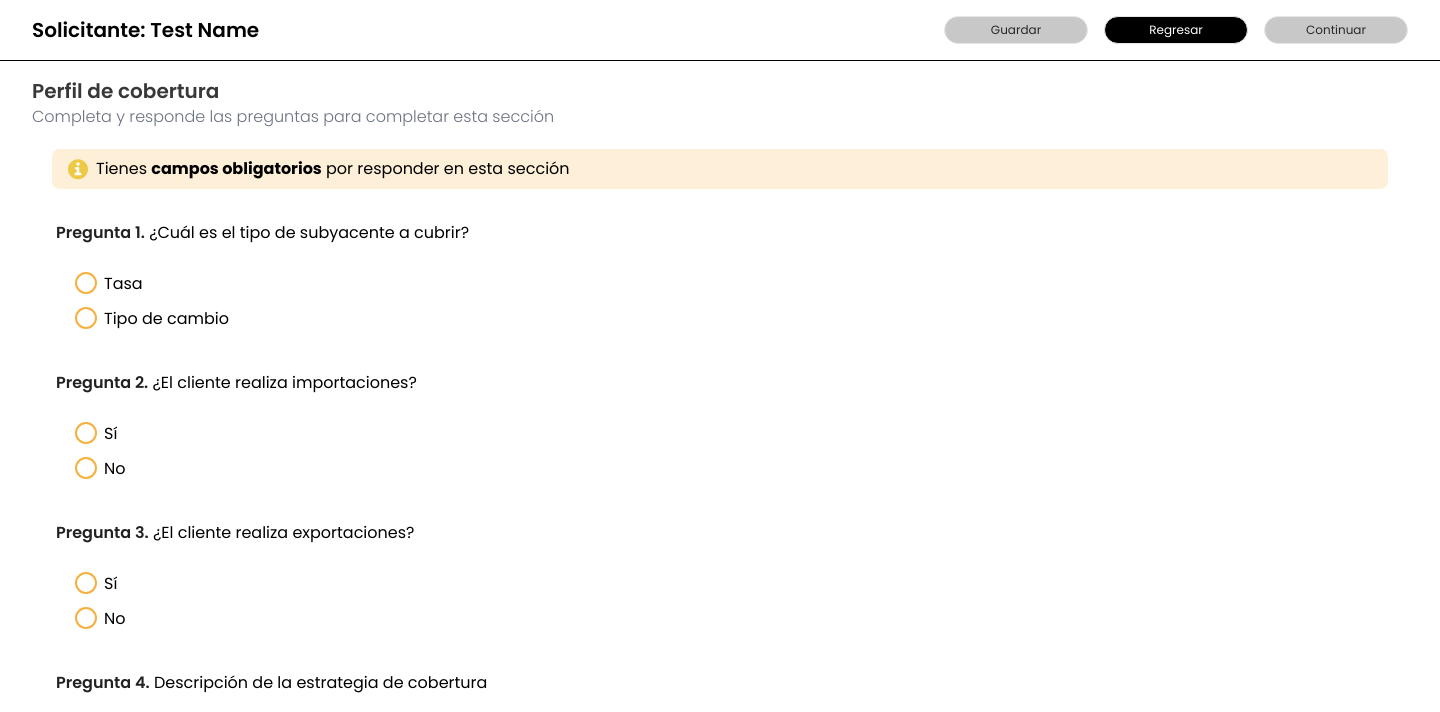
Test: PCD page › it should you must activate the "Save" button when making any change
The image size is (1440, 712).
Click the radio button labelled "Tasa" at (86, 283), box [76,273,96,293]
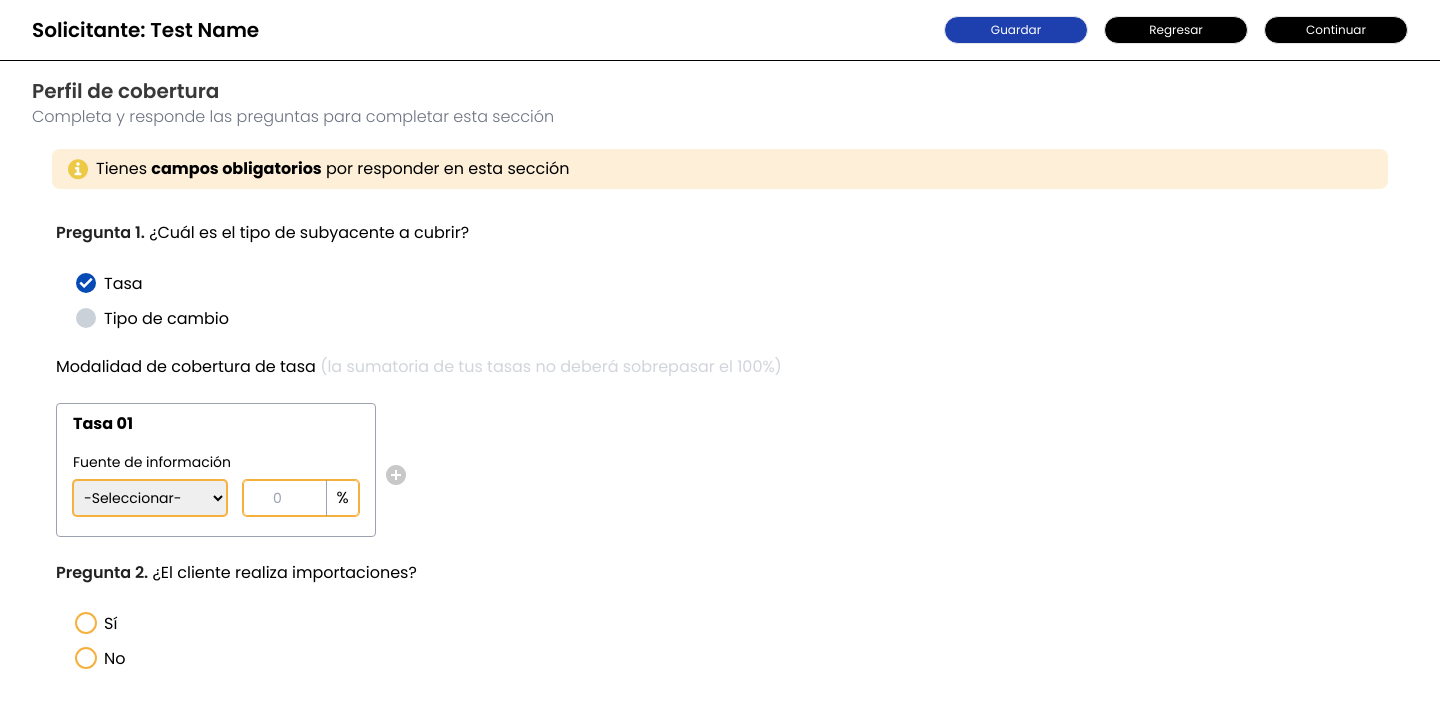
Now the button "Guardar" is enabled, box [944,16,1088,44]
